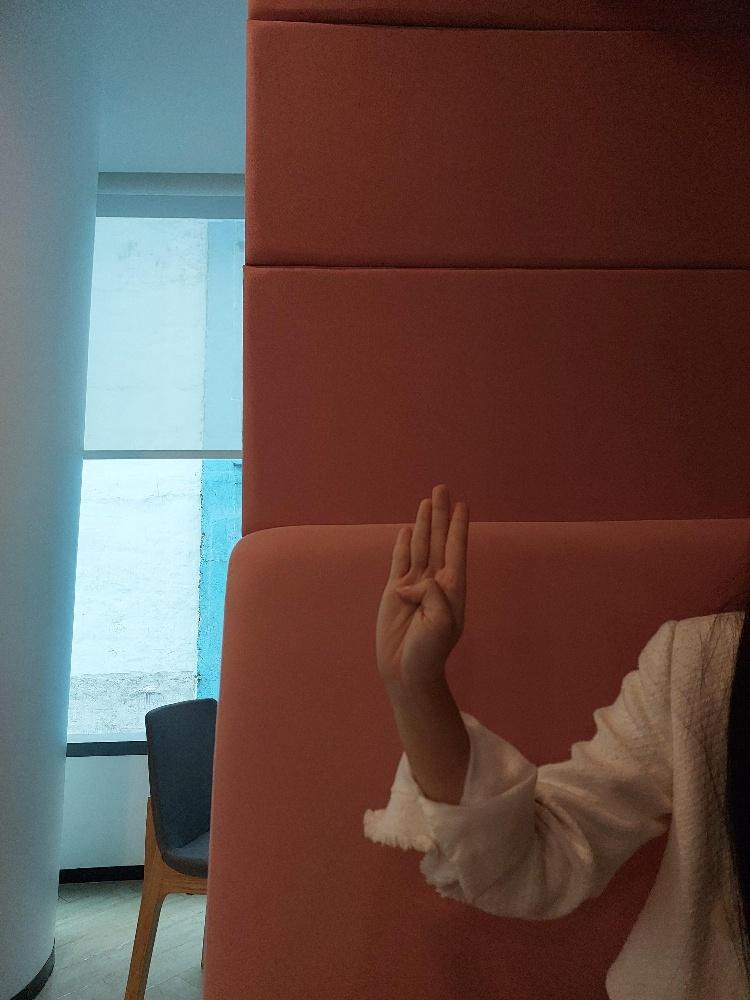b: (374, 482, 469, 679)
